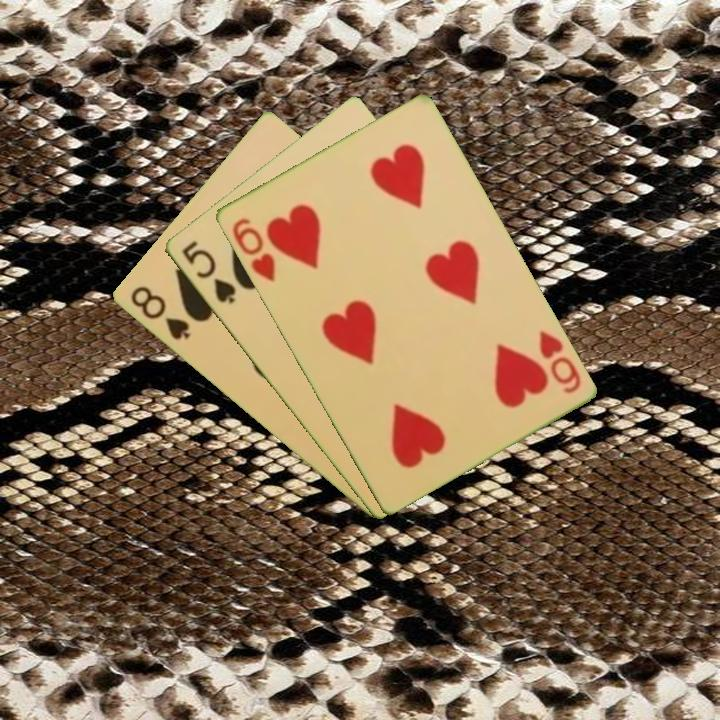5s: (177, 236, 239, 307)
6h: (228, 214, 278, 285), (535, 326, 584, 396)
8s: (126, 282, 193, 343)
